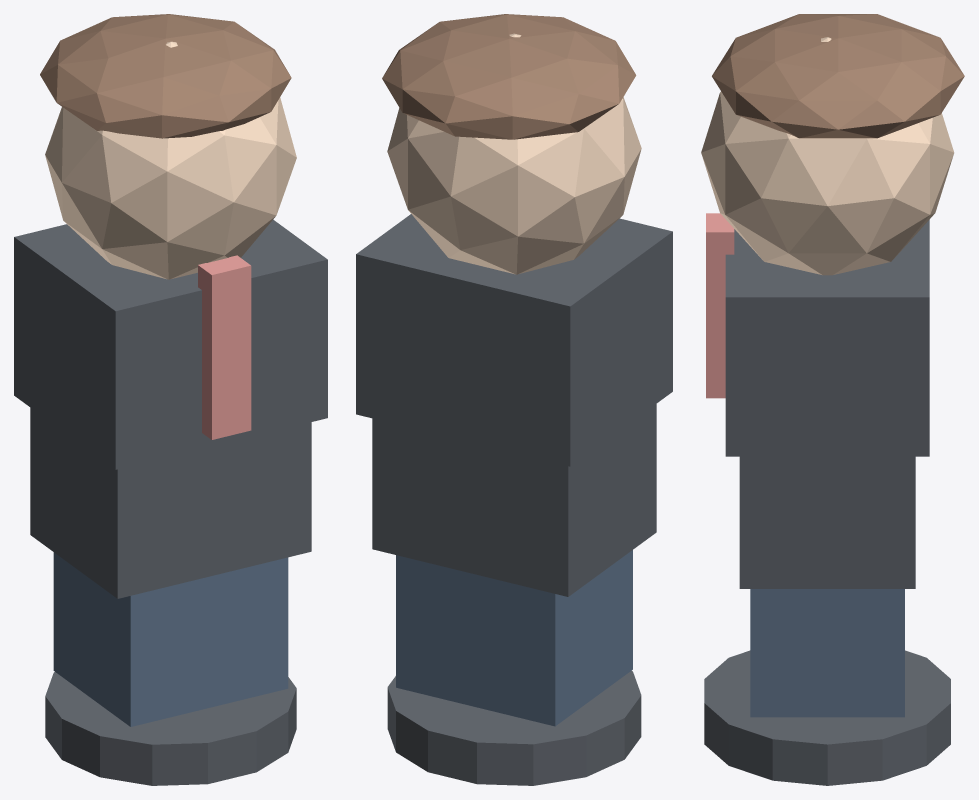
Rendered from Character_Spy_PROXY.glb.
3 renders of one model, left to right at view 1: azimuth 30°, elevation 25°; view 2: azimuth 150°, elevation 25°; view 3: azimuth 270°, elevation 25°, orthographic.
Parts seen in each view (by area): view 1: jacket_4, torso_1, pants_3, head_2, hair_6, feet_0, tie_5; view 2: jacket_4, torso_1, pants_3, head_2, hair_6, feet_0; view 3: jacket_4, head_2, hair_6, torso_1, pants_3, feet_0, tie_5.
Boxes of the visible parts, left/top/right/bottom form: jacket_4: left=14, top=219, right=327, bottom=469; torso_1: left=30, top=408, right=311, bottom=598; pants_3: left=53, top=552, right=288, bottom=726; head_2: left=45, top=41, right=296, bottom=279; hair_6: left=40, top=14, right=291, bottom=138; feet_0: left=45, top=672, right=296, bottom=785; tie_5: left=198, top=255, right=251, bottom=439; jacket_4: left=356, top=214, right=672, bottom=466; torso_1: left=372, top=404, right=656, bottom=596; pants_3: left=396, top=550, right=632, bottom=726; head_2: left=387, top=33, right=641, bottom=274; hair_6: left=382, top=14, right=636, bottom=139; feet_0: left=387, top=670, right=641, bottom=785; jacket_4: left=725, top=220, right=929, bottom=456; head_2: left=701, top=37, right=954, bottom=275; hair_6: left=712, top=14, right=964, bottom=138; torso_1: left=739, top=456, right=915, bottom=588; pants_3: left=750, top=589, right=904, bottom=717; feet_0: left=704, top=650, right=950, bottom=785; tie_5: left=706, top=213, right=734, bottom=398.
Bounding box in the file's own units: 0.36 × 1.09 × 0.375.
